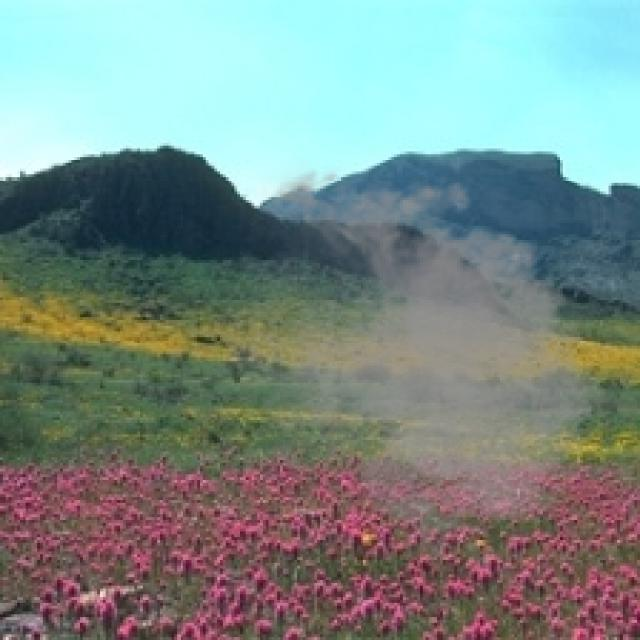smoke: (203, 157, 623, 560)
